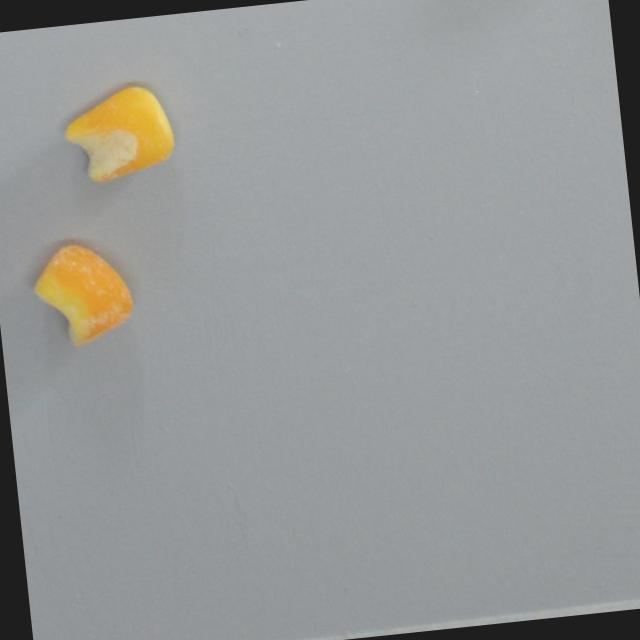no_desgerminado: (58, 80, 180, 187)
pelicula: (27, 239, 136, 352)
